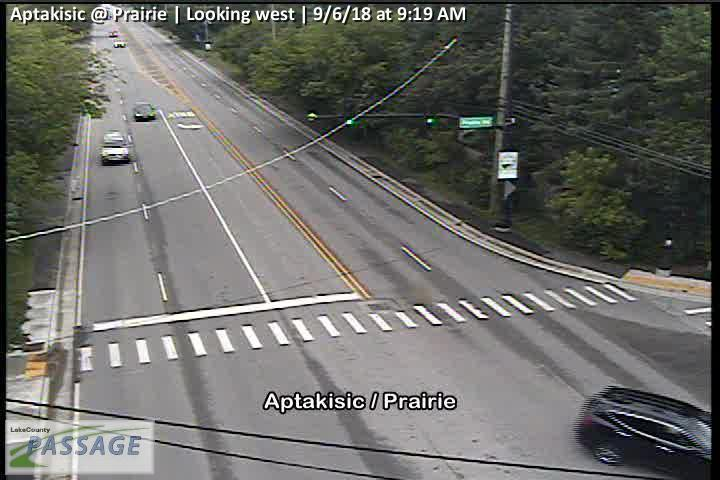SUV: (577, 385, 712, 479)
Sedan: (100, 130, 129, 162), (134, 102, 155, 119), (112, 38, 127, 48), (110, 29, 119, 36)
